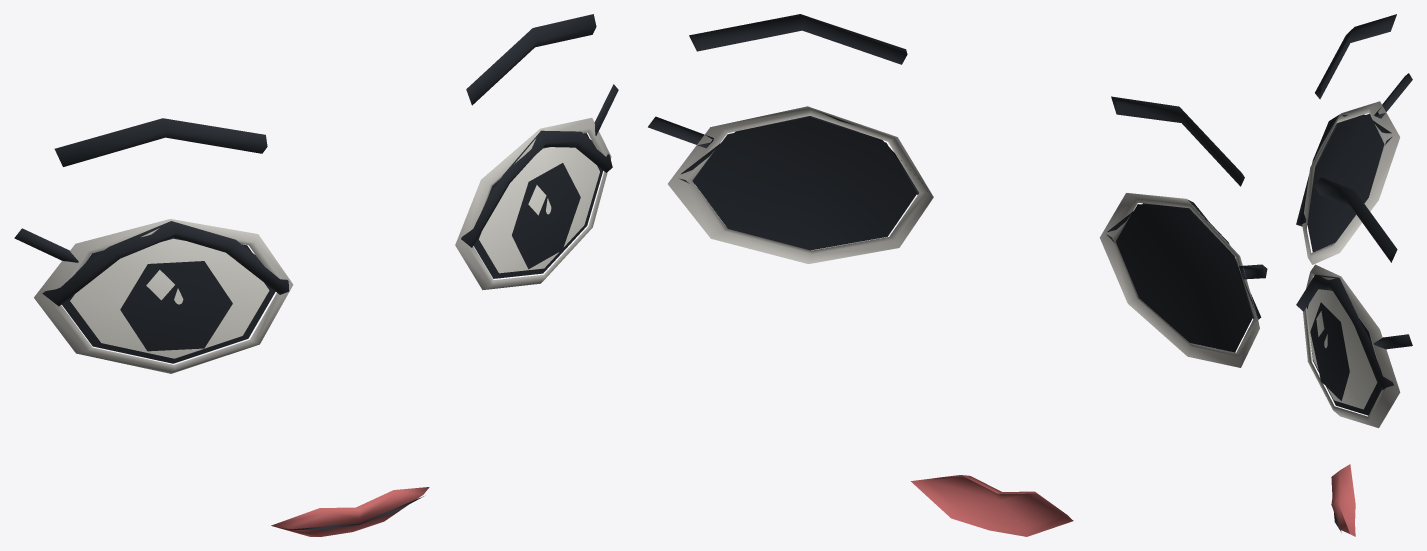
File: face_soft_smile_01.glb
The picture shows the model from 3 angles, left to right: view 1: azimuth 30°, elevation 25°; view 2: azimuth 150°, elevation 25°; view 3: azimuth 270°, elevation 25°; orthographic projection. The views are drawn at different scales.
Visible parts, largest first — view 1: Relief soft_smile; view 2: Relief soft_smile; view 3: Relief soft_smile.
Boxes of the visible parts, x1,y1,x2,y2 form: Relief soft_smile: (14, 14, 618, 536); Relief soft_smile: (648, 14, 1267, 536); Relief soft_smile: (1296, 14, 1412, 536).
Bounding box in the file's own units: 0.212 × 0.154 × 0.0393.
